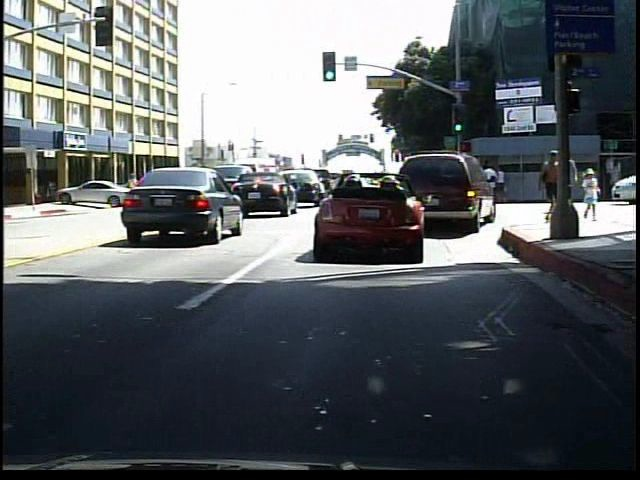person: (534, 148, 558, 223), (575, 169, 601, 223), (126, 172, 145, 205)
